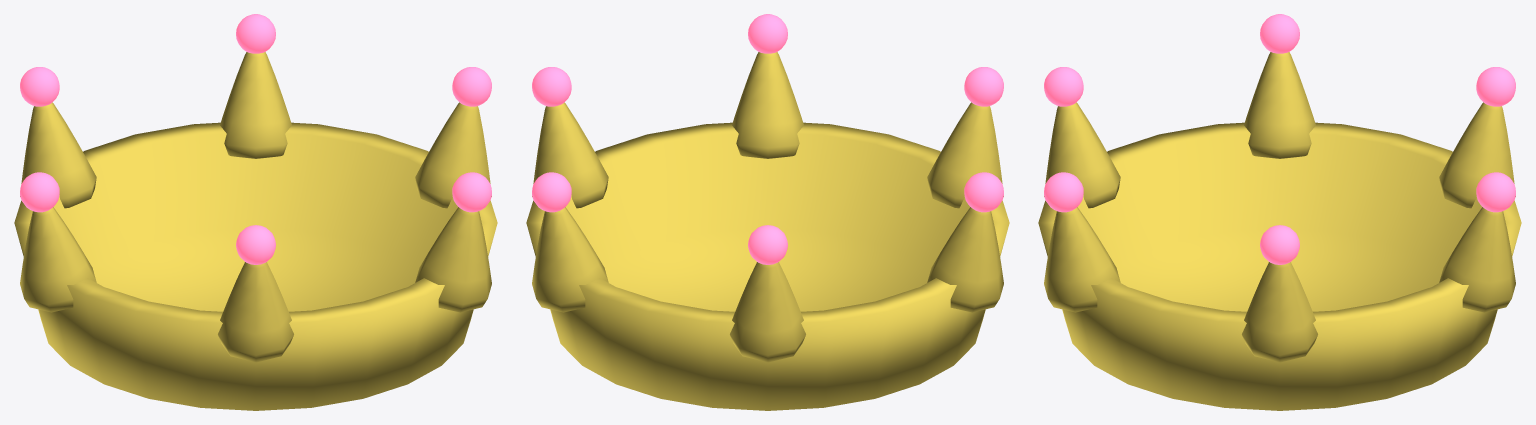
File: hat_crown.glb
The picture shows the model from 3 angles, left to right: view 1: azimuth 30°, elevation 25°; view 2: azimuth 150°, elevation 25°; view 3: azimuth 270°, elevation 25°; orthographic projection.
Visible parts, largest first — view 1: HatCrown; view 2: HatCrown; view 3: HatCrown.
Boxes of the visible parts, box(x1,y1,x2,y2) form: HatCrown: box(14, 14, 497, 410); HatCrown: box(526, 14, 1009, 410); HatCrown: box(1038, 14, 1521, 410).
Size of the model in its own units: 0.4017 by 0.1634 by 0.36.
